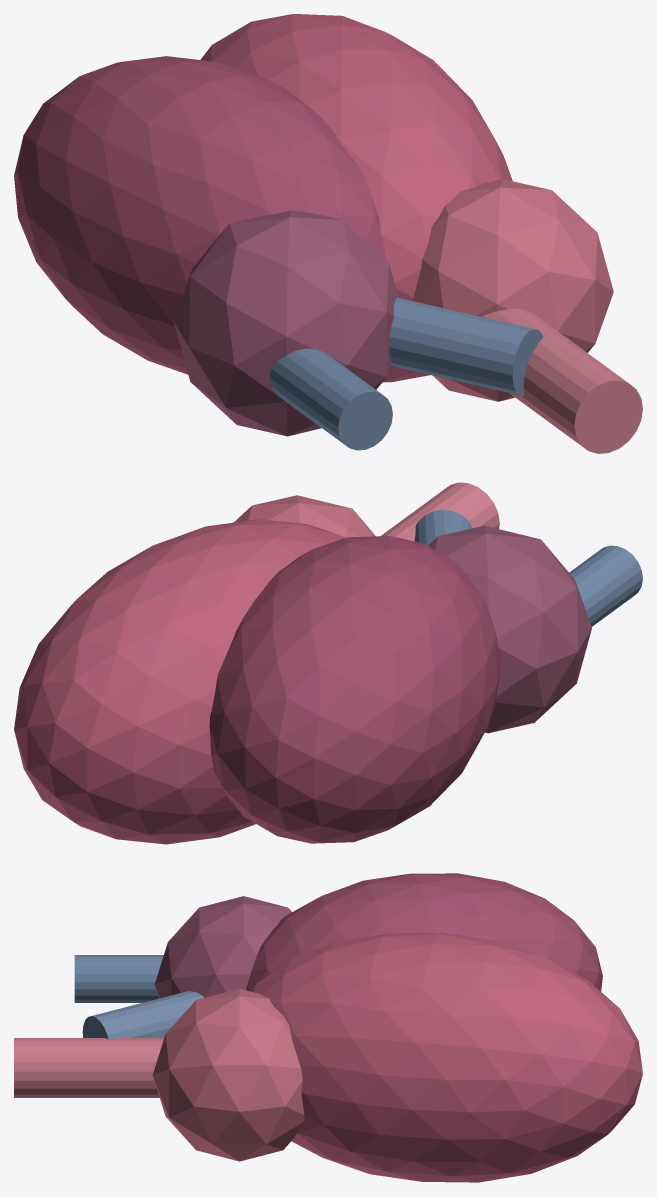
File: heart-medium.glb
3 views of the same model, one above another, from view 1: azimuth 30°, elevation 25°; view 2: azimuth 150°, elevation 25°; view 3: azimuth 270°, elevation 25° (orthographic). The views are drawn at different scales.
Visible parts, largest first — view 1: right_ventricle, left_ventricle, right_atrium, left_atrium, aorta, pulmonary_artery, vena_cava; view 2: right_ventricle, left_ventricle, right_atrium, vena_cava, left_atrium, aorta, pulmonary_artery; view 3: left_ventricle, left_atrium, right_ventricle, right_atrium, aorta, vena_cava, pulmonary_artery.
Part boxes in pixels (<box>): right_ventricle: <box>14,56,385,374</box>; left_ventricle: <box>200,14,512,382</box>; right_atrium: <box>173,210,398,436</box>; left_atrium: <box>412,179,613,401</box>; aorta: <box>481,308,642,453</box>; pulmonary_artery: <box>389,297,543,395</box>; vena_cava: <box>269,348,392,450</box>; right_ventricle: <box>209,536,500,843</box>; left_ventricle: <box>14,519,345,844</box>; right_atrium: <box>428,525,591,733</box>; vena_cava: <box>569,545,642,626</box>; left_atrium: <box>234,495,375,537</box>; aorta: <box>380,482,499,540</box>; pulmonary_artery: <box>414,509,472,545</box>; left_ventricle: <box>250,933,642,1182</box>; left_atrium: <box>152,988,304,1161</box>; right_ventricle: <box>246,873,602,991</box>; right_atrium: <box>154,896,291,998</box>; aorta: <box>14,1038,163,1097</box>; vena_cava: <box>74,955,163,1002</box>; pulmonary_artery: <box>82,991,203,1039</box>.
Size of the model in its own units: 1.85 by 1.28 by 3.11.
